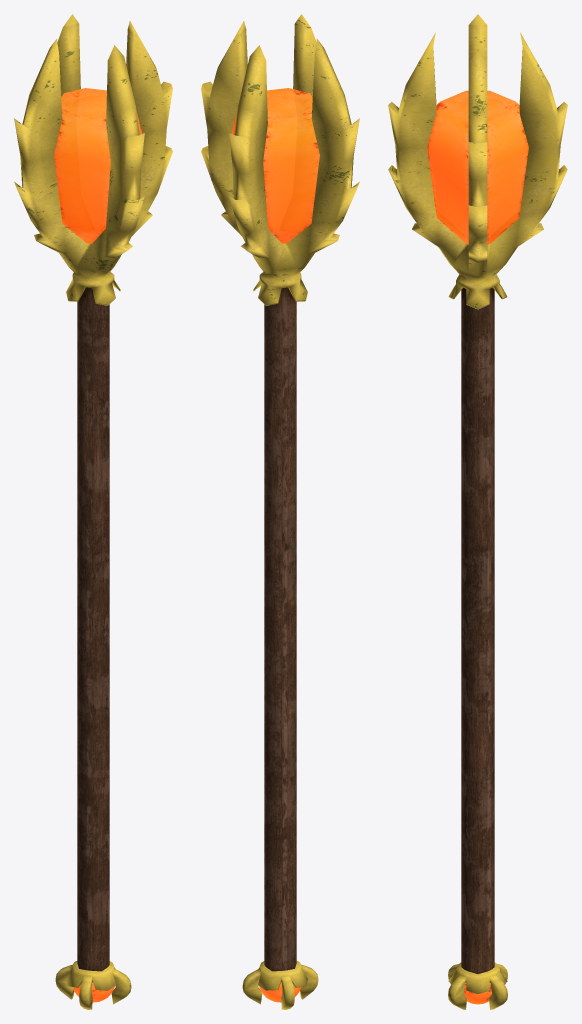
The model's file is magical_staff.glb.
The picture shows the model from 3 angles, left to right: view 1: azimuth 30°, elevation 25°; view 2: azimuth 150°, elevation 25°; view 3: azimuth 270°, elevation 25°; orthographic projection.
Parts seen in each view (by area): view 1: Embelishments_0, Pole_2, Crystal_1; view 2: Embelishments_0, Pole_2, Crystal_1; view 3: Pole_2, Embelishments_0, Crystal_1.
Part boxes in pixels (x1,y1,x2,y2): Embelishments_0: [14, 14, 172, 1009]; Pole_2: [77, 287, 109, 971]; Crystal_1: [54, 88, 142, 1002]; Embelishments_0: [201, 14, 359, 1009]; Pole_2: [264, 287, 296, 971]; Crystal_1: [231, 88, 319, 1002]; Pole_2: [461, 288, 494, 973]; Embelishments_0: [388, 14, 567, 1009]; Crystal_1: [427, 90, 528, 1004].
Size of the model in its own units: 1.9 by 11.33 by 1.9.
3 materials, 3 textured.
